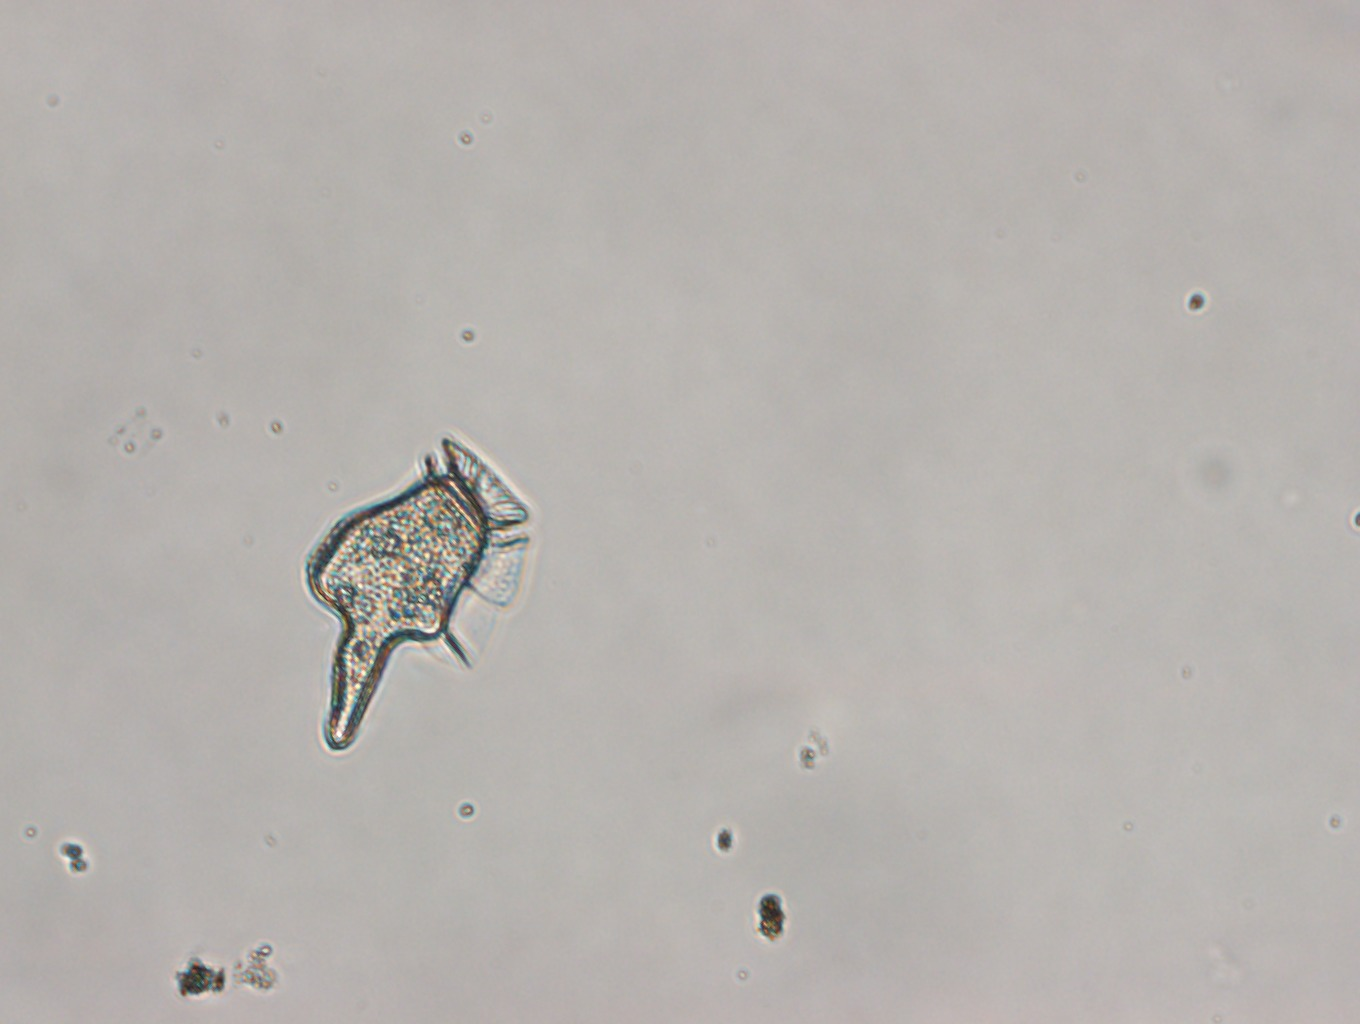dinophysis caudata: (298, 433, 531, 752)
